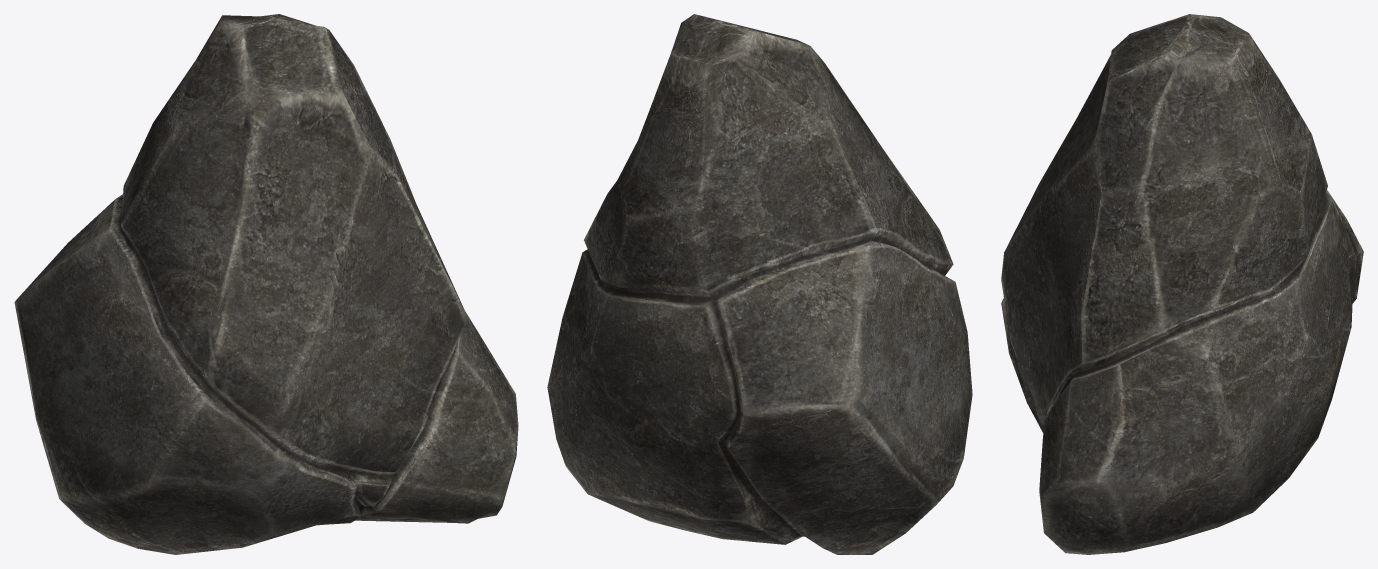
File: meeting-rock.glb
The picture shows the model from 3 angles, left to right: view 1: azimuth 30°, elevation 25°; view 2: azimuth 150°, elevation 25°; view 3: azimuth 270°, elevation 25°; orthographic projection. The views are drawn at different scales.
Parts seen in each view (by area): view 1: meeting_rock; view 2: meeting_rock; view 3: meeting_rock.
Part boxes in pixels (x1,y1,x2,y2): meeting_rock: (14,14,518,554); meeting_rock: (547,14,972,554); meeting_rock: (1001,14,1363,554).
Bounding box in the file's own units: 0.4075 × 0.4632 × 0.3312.
1 material, 1 textured.
